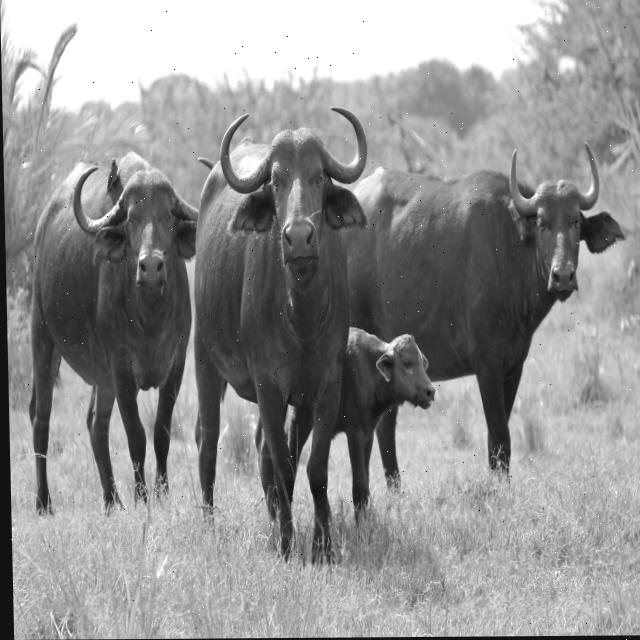Buffalo: (336, 143, 633, 498), (187, 103, 376, 566), (24, 152, 216, 519)
